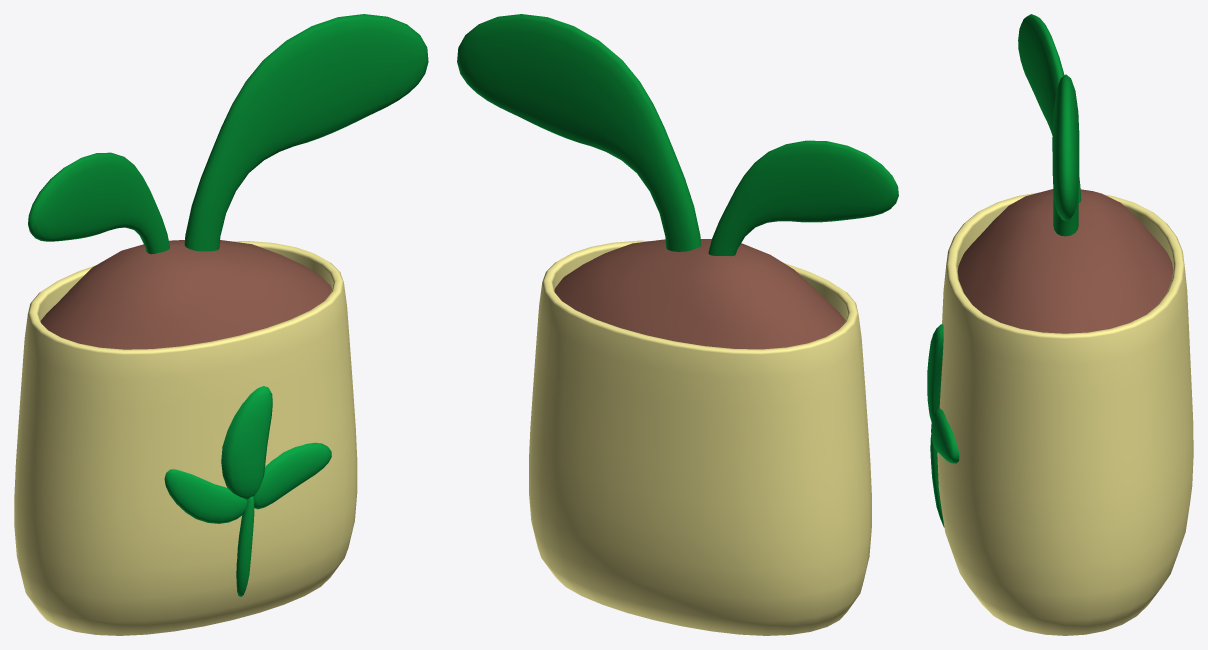
File: Farm_15_Bag_with_Plant_2.glb
3 views of the same model, side by side, from view 1: azimuth 30°, elevation 25°; view 2: azimuth 150°, elevation 25°; view 3: azimuth 270°, elevation 25° (orthographic). The views are drawn at different scales.
Visible parts, largest first — view 1: Farm_15_Bag_with_Plant_2; view 2: Farm_15_Bag_with_Plant_2; view 3: Farm_15_Bag_with_Plant_2.
Part boxes in pixels (<box>): Farm_15_Bag_with_Plant_2: <box>14,14,428,635</box>; Farm_15_Bag_with_Plant_2: <box>457,14,898,635</box>; Farm_15_Bag_with_Plant_2: <box>927,14,1193,635</box>.
Size of the model in its own units: 0.9332 by 1.15 by 0.4921.
1 material, 1 textured.
